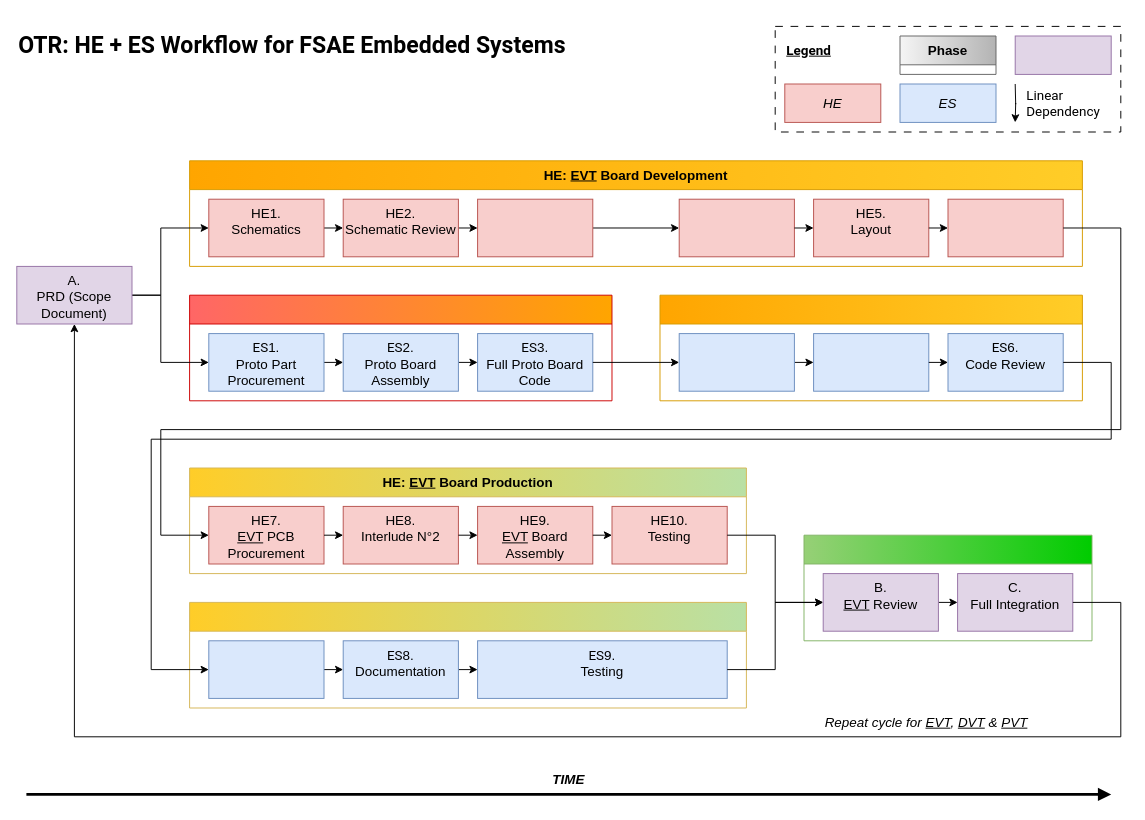
Image size: 1145x820. Some labels were removed from this diagram. Here are the shapes that lost their labels. From the top down, the box of each, then its label:
(1014, 35, 1111, 74): HE + ES
(477, 198, 593, 257): HE3. Interlude N°1
(678, 198, 794, 257): HE4. Schematic Signoff
(947, 198, 1063, 257): HE6. Layout Review
(189, 294, 612, 401): ES: Prototype Board
(678, 333, 794, 391): ES 4. Full EVT Board Code
(659, 294, 1082, 401): ES: EVT Board Development
(813, 333, 929, 391): ES 5 . Unit Tests
(803, 534, 1092, 641): HE + ES: EVT Board Integration
(208, 640, 324, 698): ES 7. Integration Prep
(189, 601, 746, 708): ES: EVT Board Prod Code
